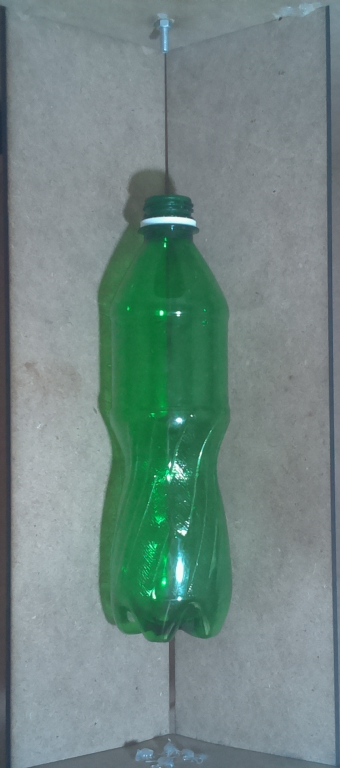Bouteille_0.5L: (95, 185, 243, 646)
